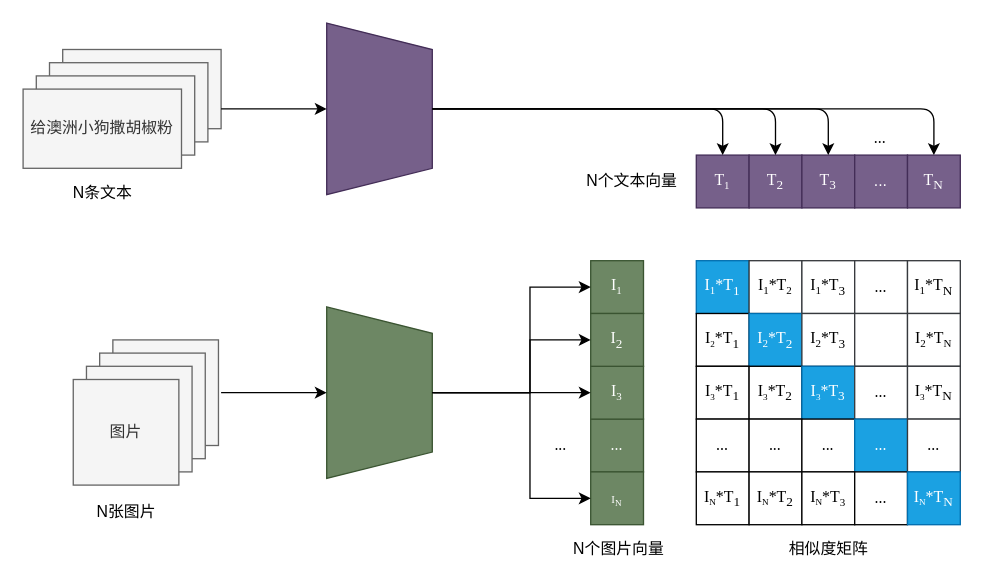
The diagram is 983 pixels wide and 585 high, and some of its shapes have lost their labels. The shapes that lost their labels are listed below. From the top down, each one's box as (x1, y1, x2, y2) in pixels, then its label:
(325, 22, 432, 195): 文本编码器
(325, 306, 432, 478): 图片编码器
